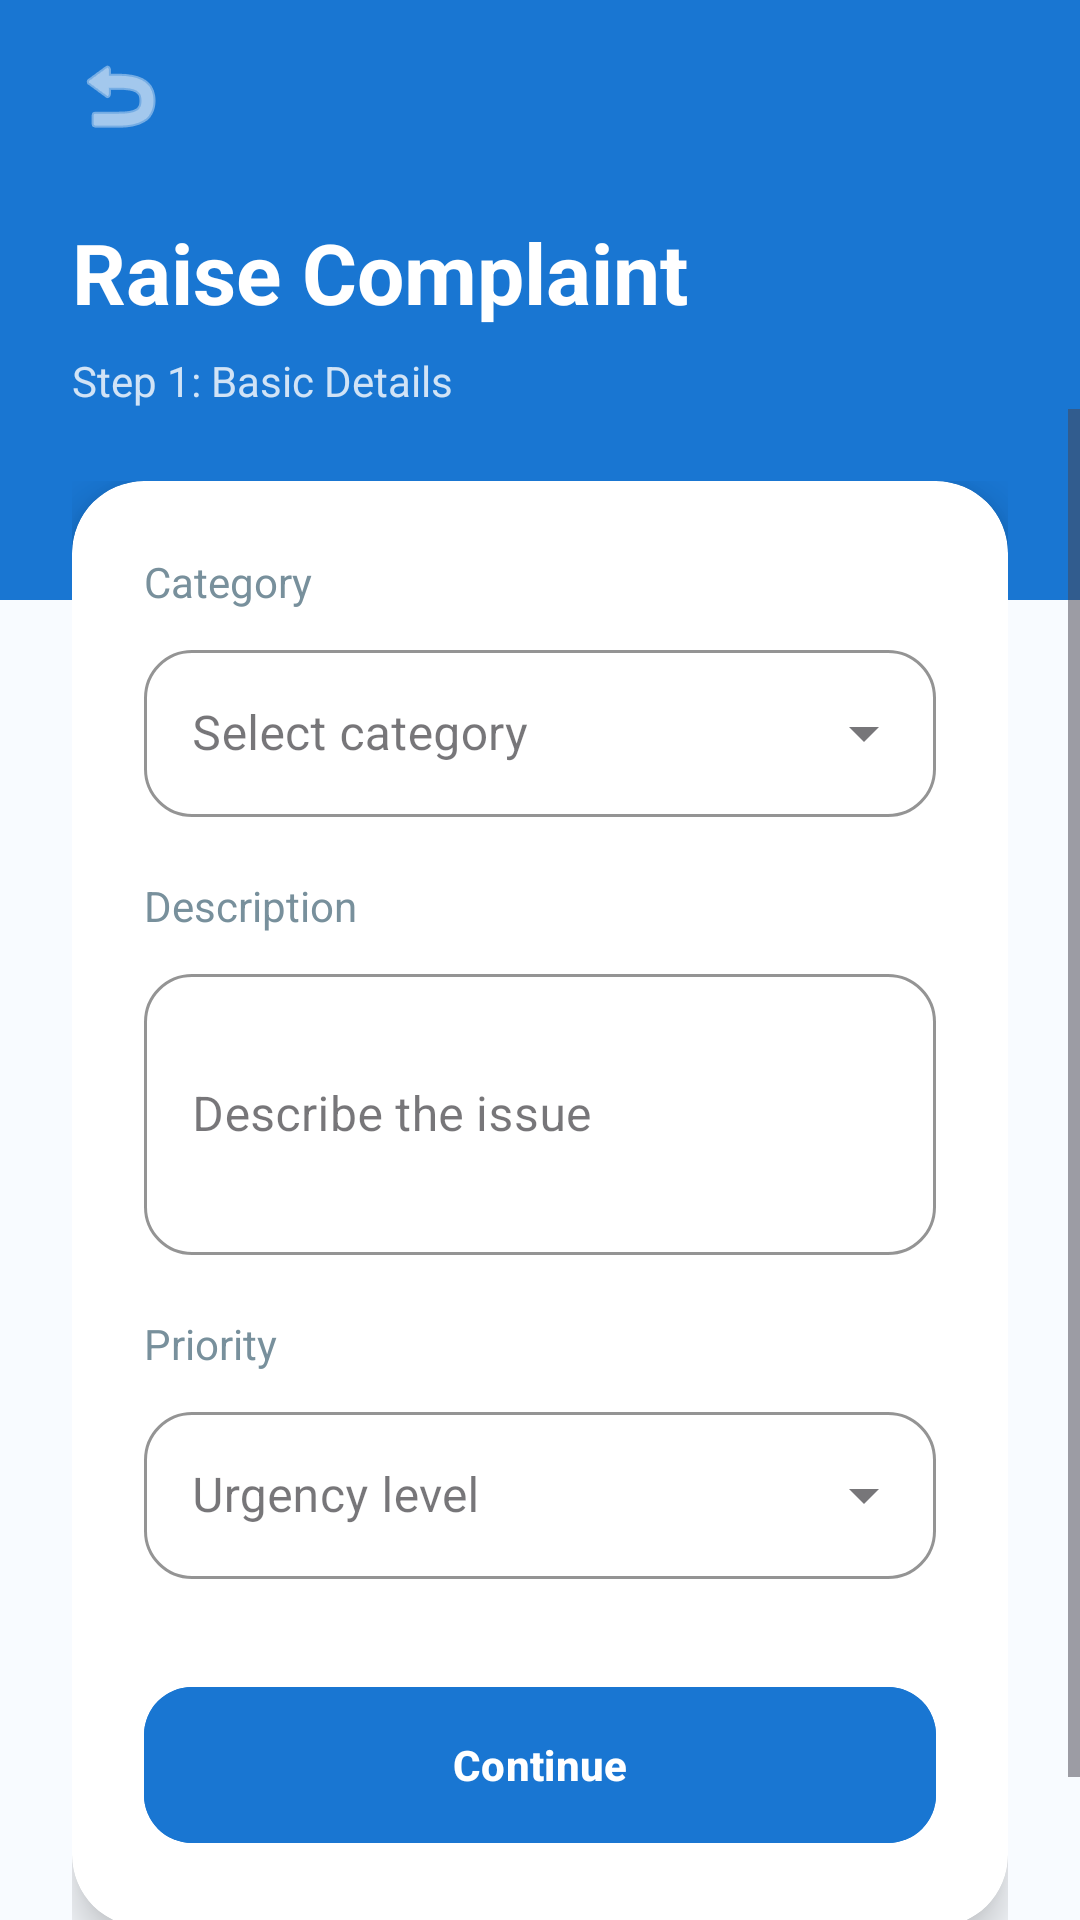

Named icons in this screenshot (1080x1920) and their bounding boxes, (x1, y1, x2, y2):
revert: (87, 65, 156, 128)
